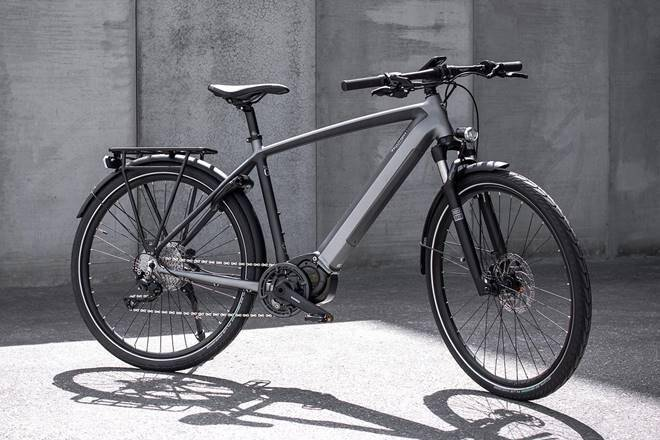bicycle: (63, 57, 592, 405)
